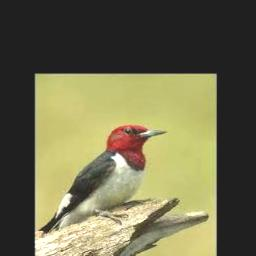Woodpecker: (39, 124, 168, 234)
